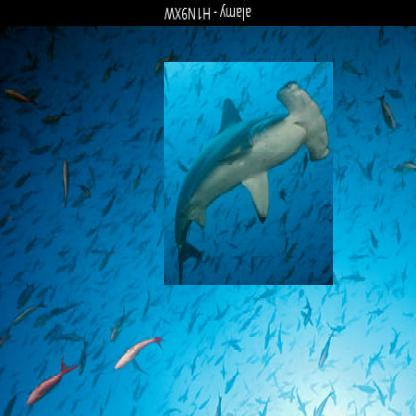hammerhead_Shark: (163, 61, 333, 285)
